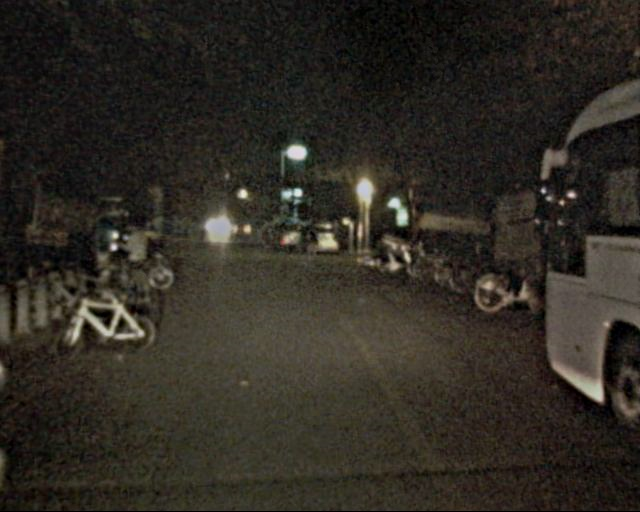person: (120, 216, 156, 305), (303, 223, 320, 265), (258, 221, 272, 256)
